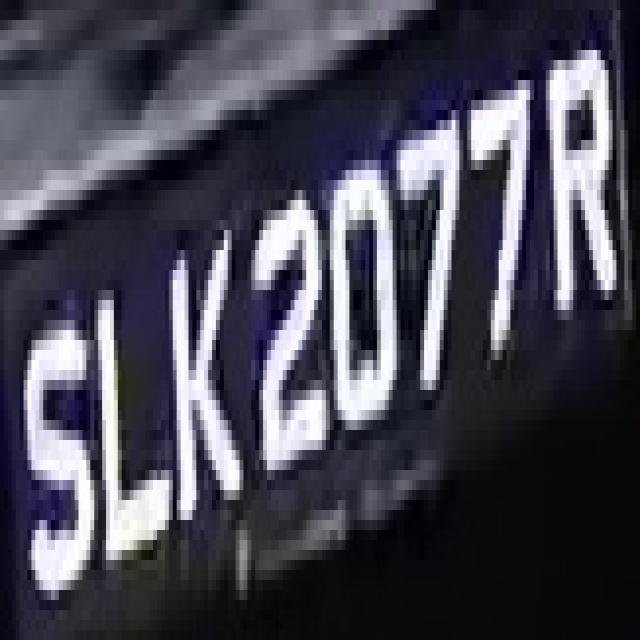0: (314, 130, 401, 450)
2: (247, 160, 338, 480)
7: (385, 100, 471, 430), (467, 80, 542, 410)
K: (173, 180, 247, 570)
L: (102, 270, 177, 590)
R: (546, 40, 628, 350)
S: (8, 290, 98, 620)
